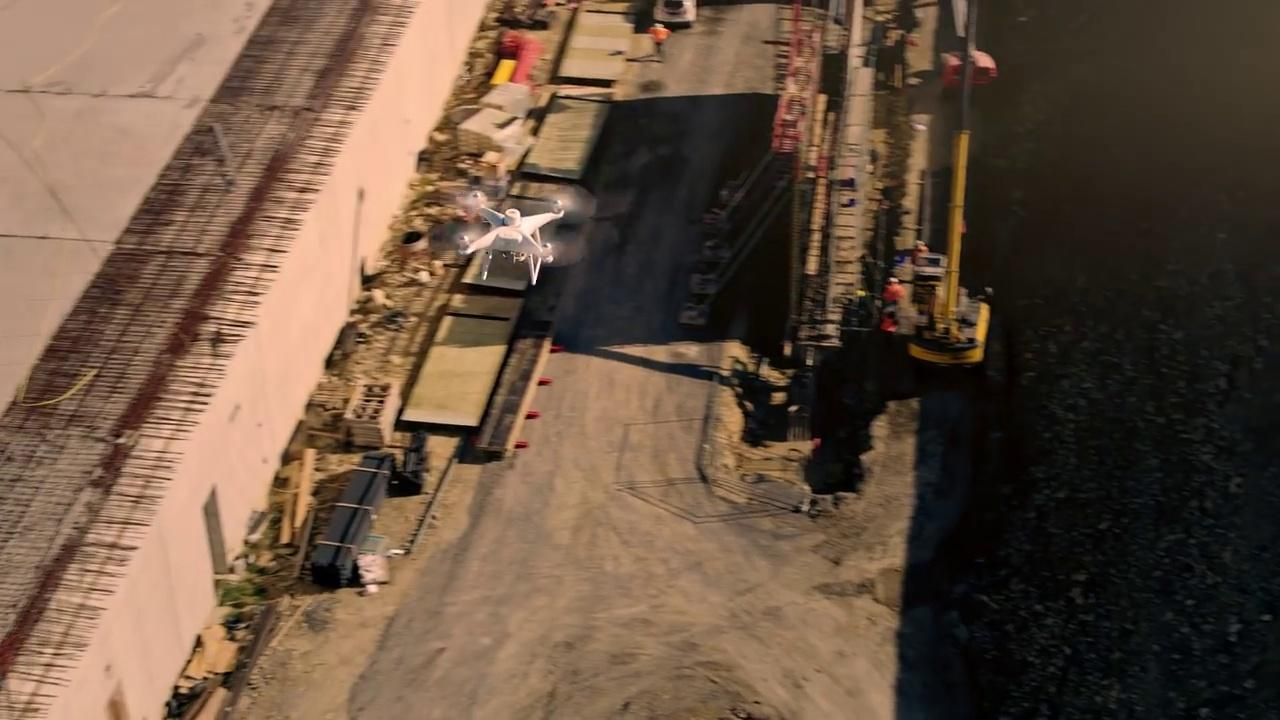drone: (444, 182, 595, 280)
